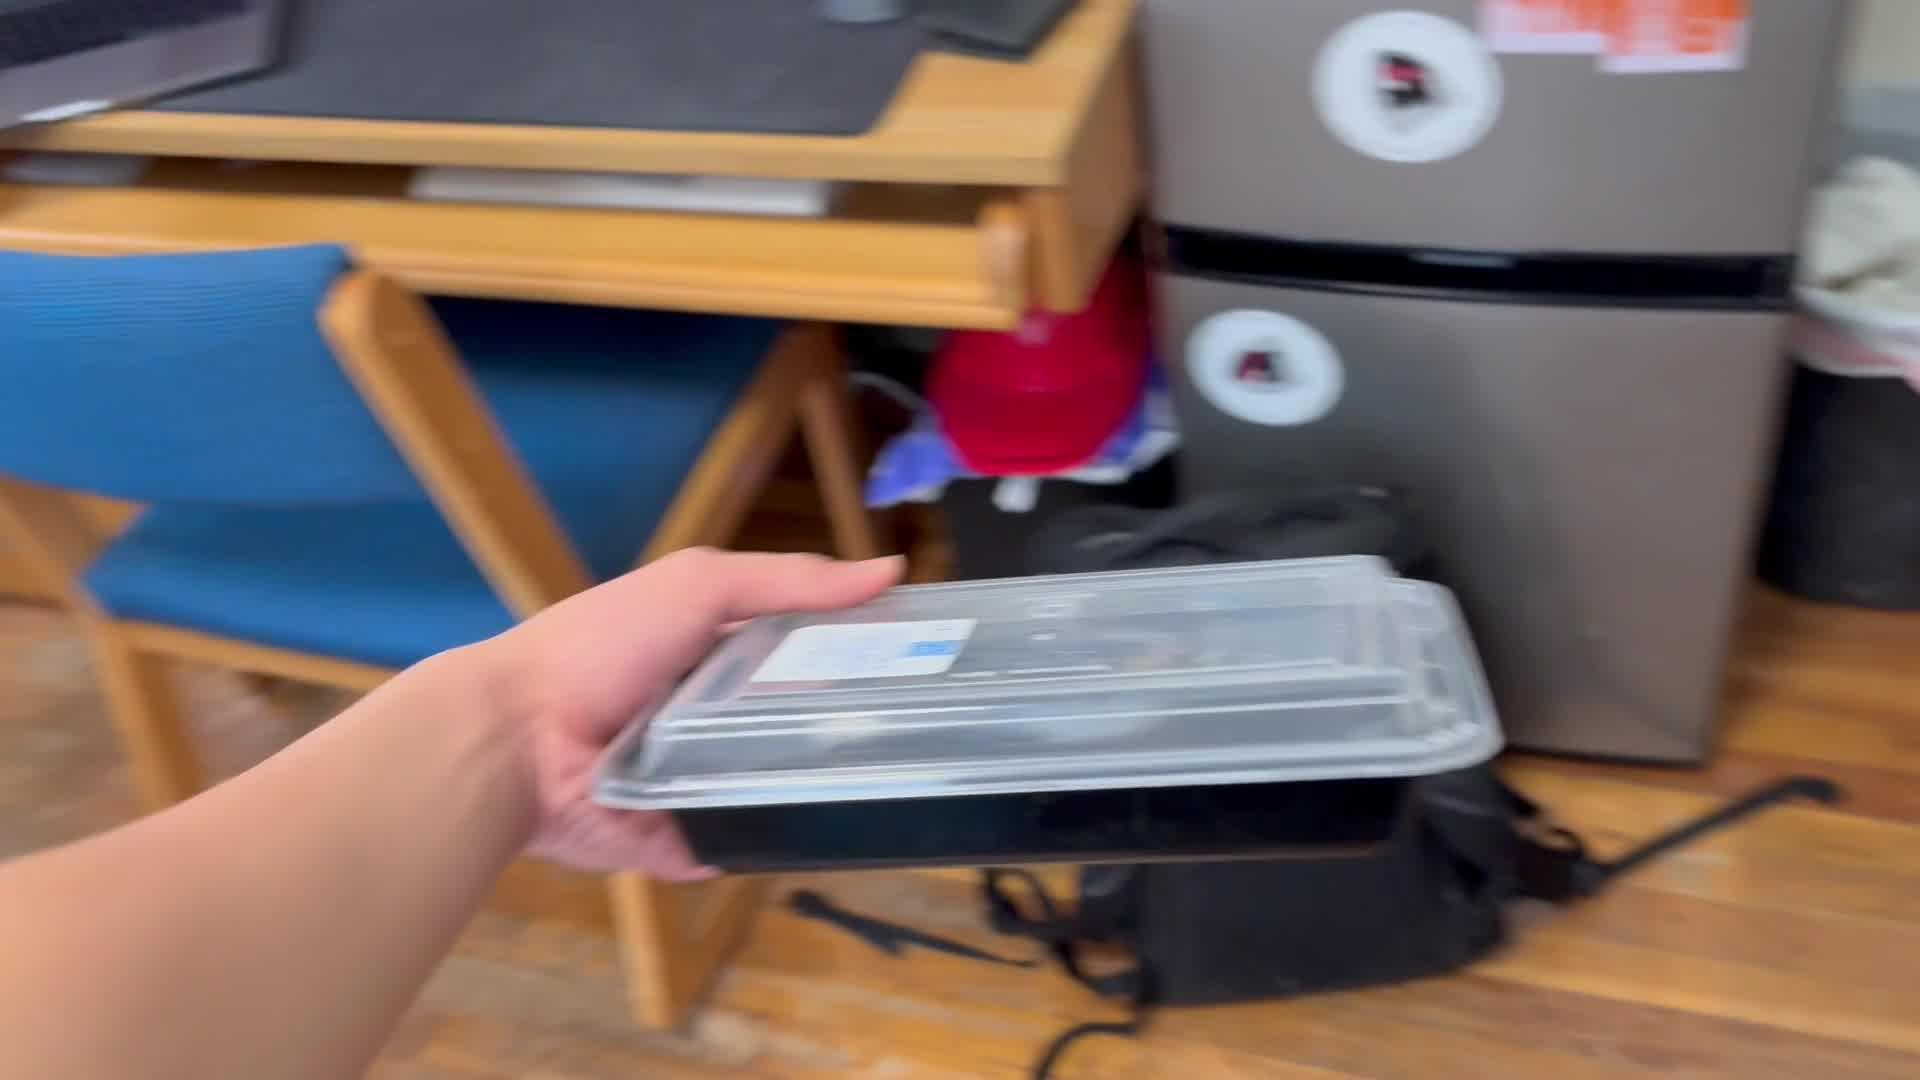lp_cup_lids: (595, 559, 1498, 868)
